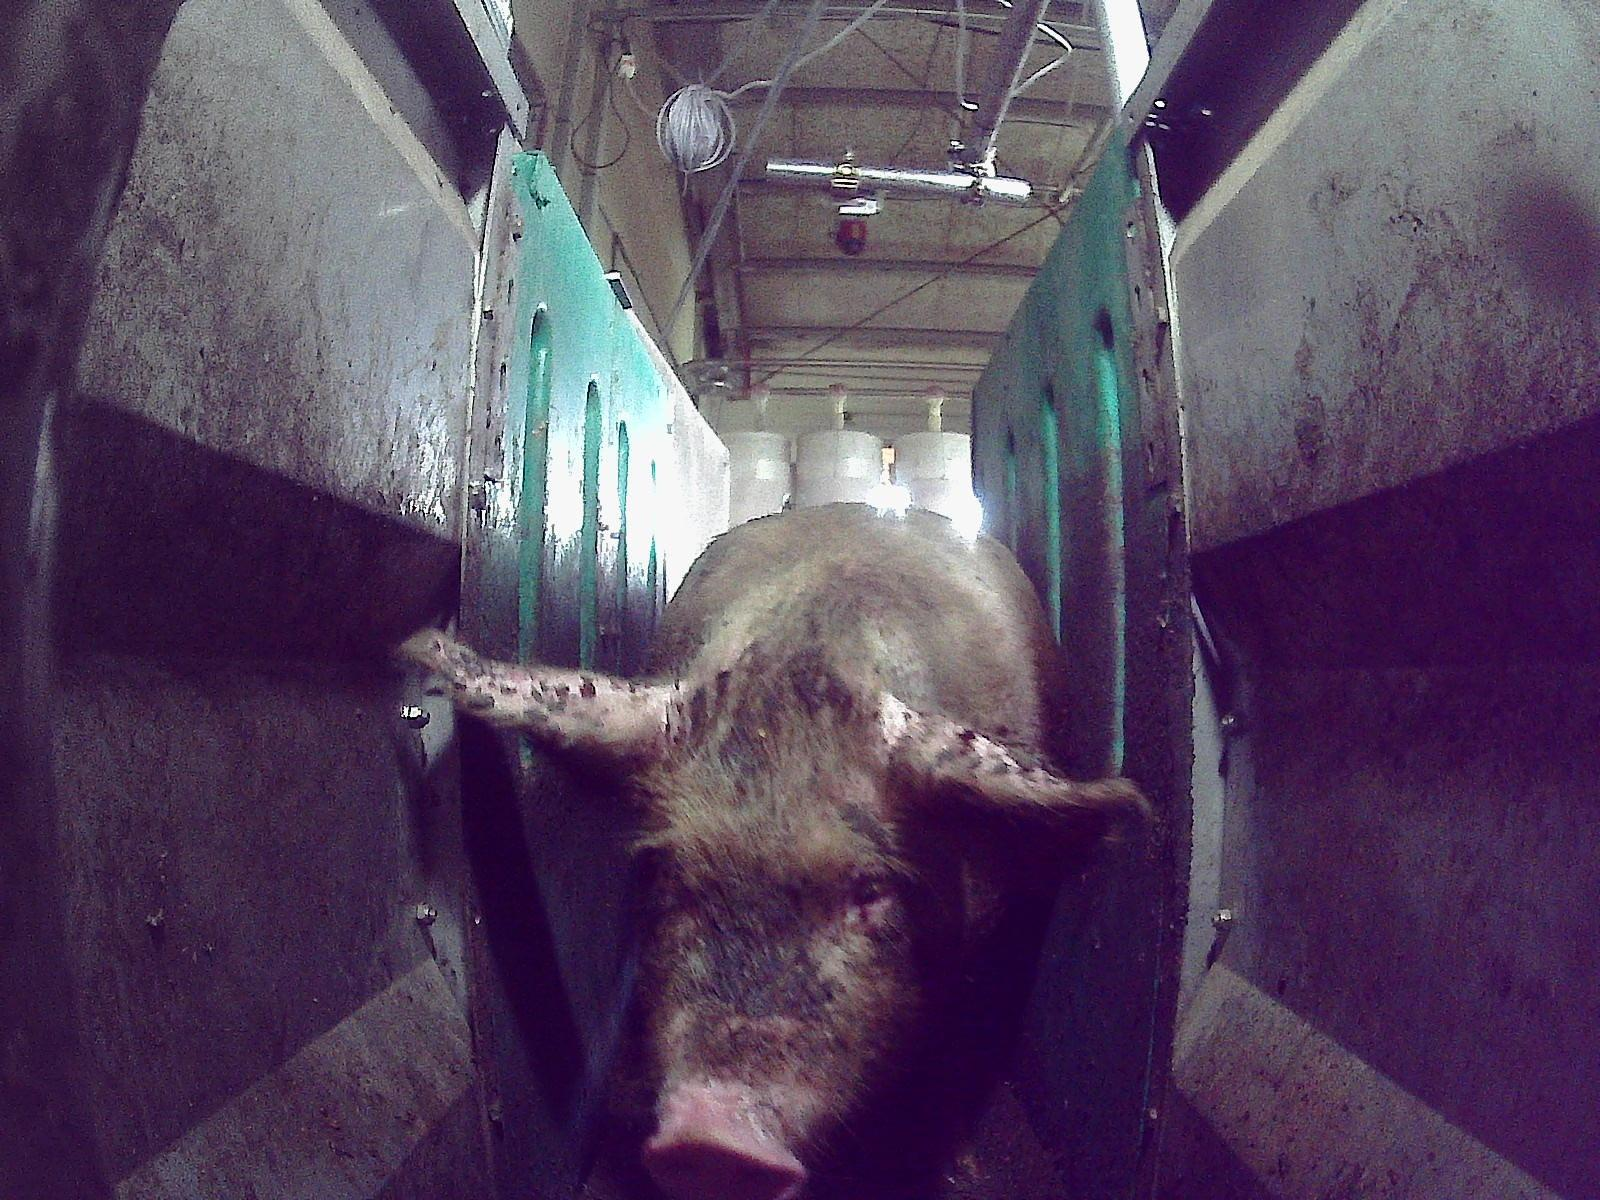Face: (626, 651, 964, 1199)
